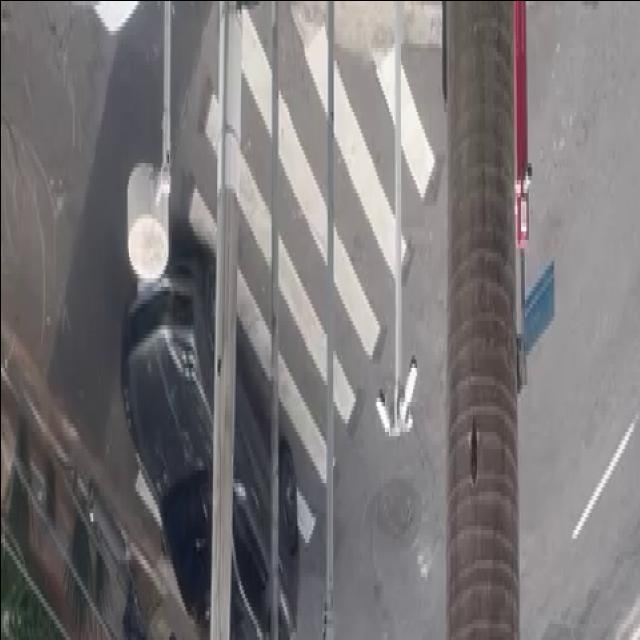car: (110, 263, 328, 637)
